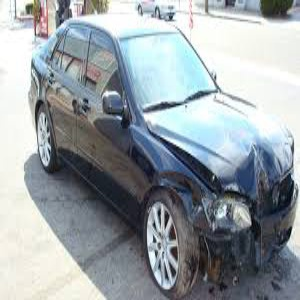bonnet: (211, 128, 292, 187)
bumper: (207, 237, 289, 279)
head_lights: (198, 191, 256, 232)
